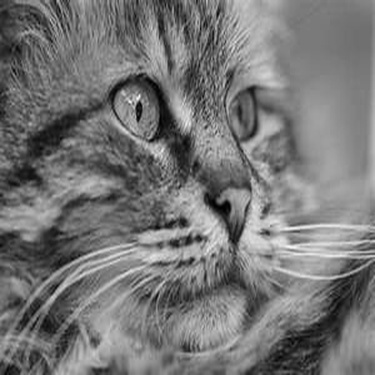cat: (3, 4, 368, 371)
